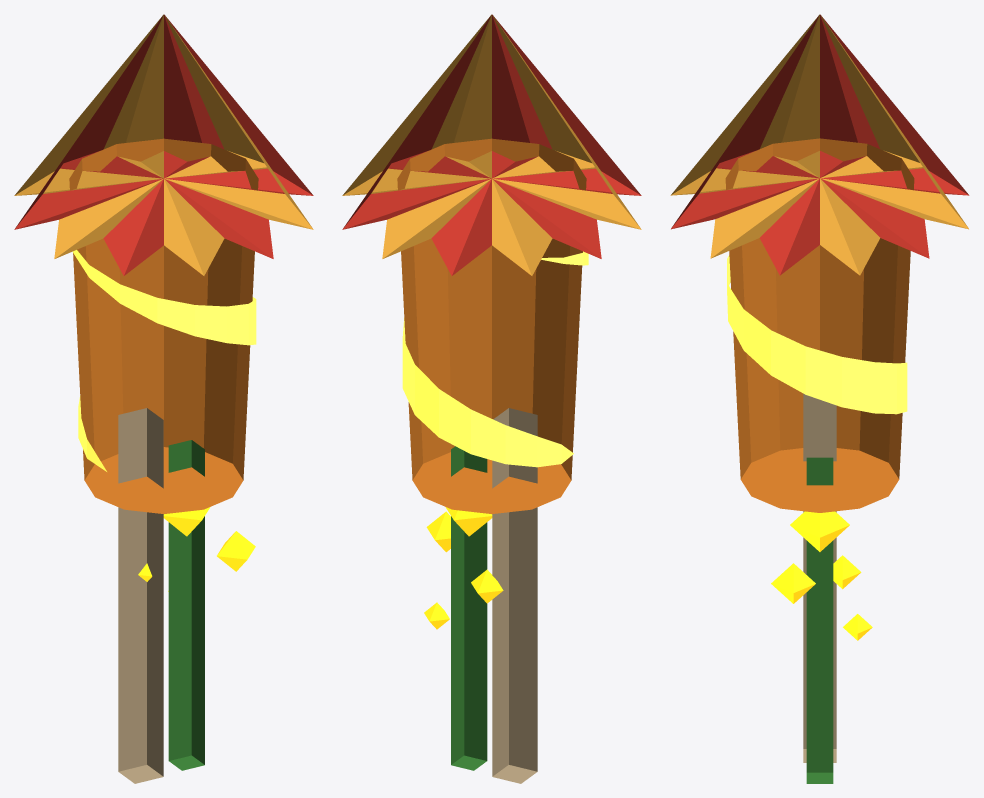
The model's file is rocket_lit.glb.
The picture shows the model from 3 angles, left to right: view 1: azimuth 30°, elevation 25°; view 2: azimuth 150°, elevation 25°; view 3: azimuth 270°, elevation 25°; orthographic projection.
Visible parts, largest first — view 1: body, fan_a, fan_b, stick, fuse, emblem, sparks; view 2: body, fan_a, fan_b, stick, fuse, emblem, sparks; view 3: body, fan_a, fan_b, emblem, fuse, stick, sparks.
Boxes of the visible parts, x1,y1,x2,y2 form: body: [69, 138, 258, 513]; fan_a: [14, 14, 313, 275]; fan_b: [14, 14, 313, 275]; stick: [118, 408, 163, 783]; fuse: [168, 440, 204, 770]; emblem: [72, 250, 256, 471]; sparks: [138, 507, 255, 591]; body: [397, 138, 586, 513]; fan_a: [342, 14, 641, 275]; fan_b: [342, 14, 641, 275]; stick: [492, 408, 537, 783]; fuse: [451, 446, 487, 770]; emblem: [402, 251, 588, 467]; sparks: [424, 507, 503, 629]; body: [725, 138, 914, 512]; fan_a: [671, 14, 969, 275]; fan_b: [670, 14, 968, 275]; emblem: [727, 255, 907, 414]; fuse: [806, 457, 833, 783]; stick: [803, 393, 836, 762]; sparks: [771, 511, 872, 640].
Size of the model in its own units: 0.396 by 1.1 by 0.396.
